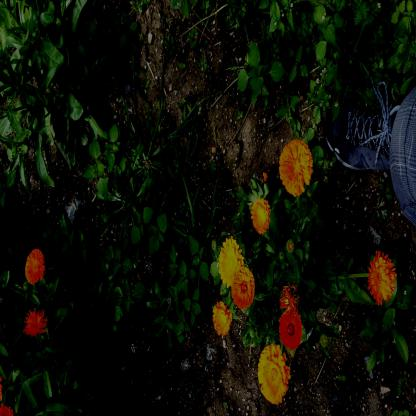marigold: (278, 139, 313, 194), (258, 346, 288, 403), (368, 253, 396, 302), (218, 237, 243, 286), (278, 312, 302, 348), (24, 247, 45, 285), (234, 269, 254, 306), (250, 198, 271, 233), (24, 306, 45, 336), (212, 302, 230, 335)
